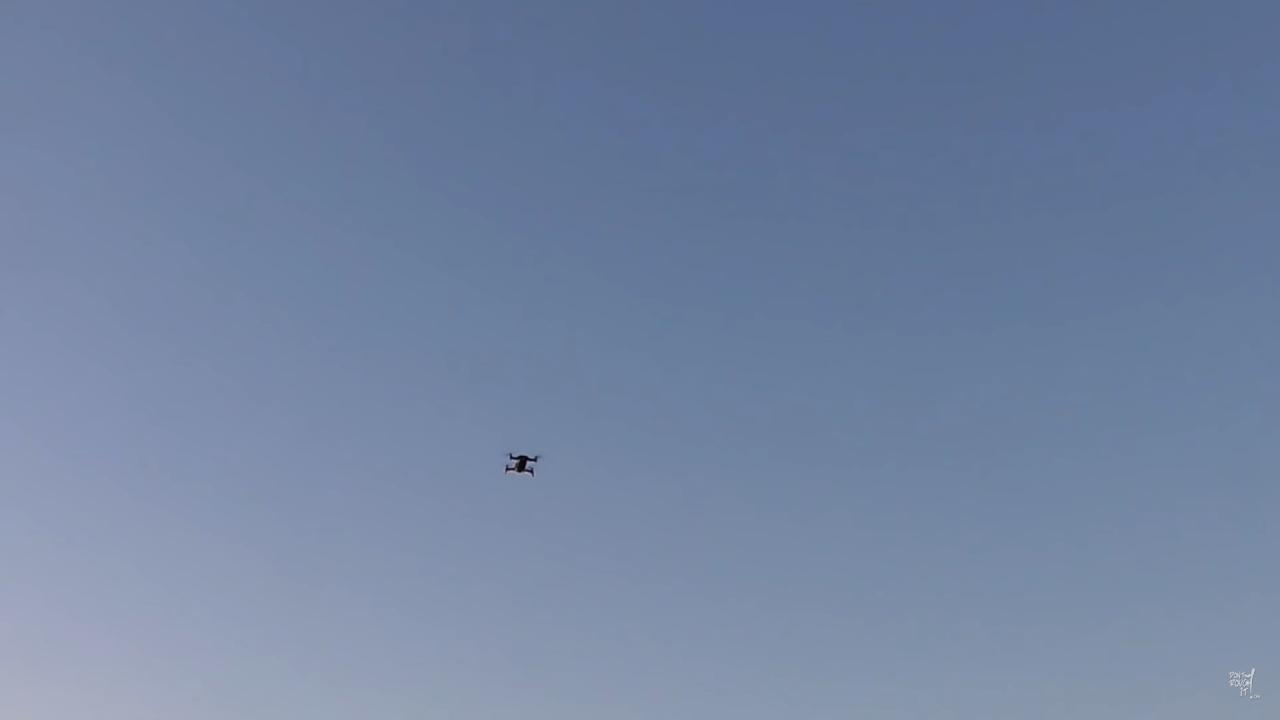Drone: (492, 441, 550, 490)
